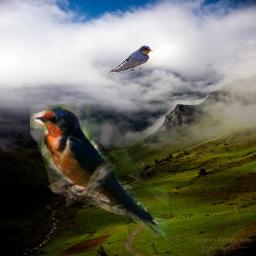Swallow: (30, 103, 169, 238), (103, 45, 153, 73)
